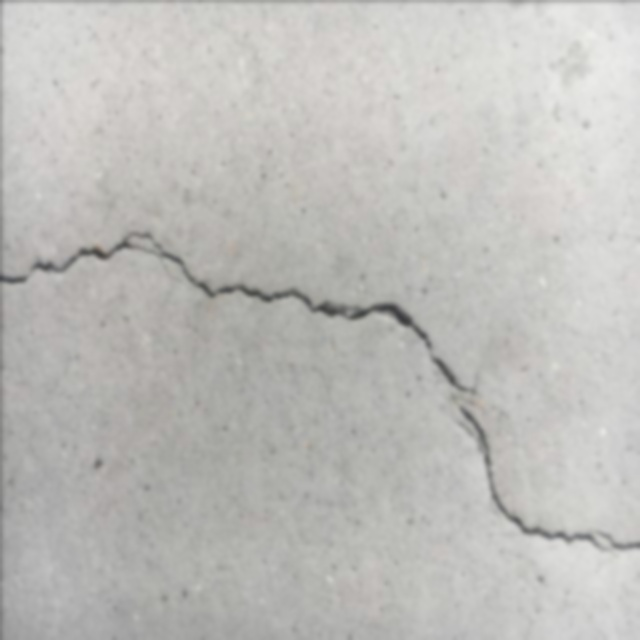SurfaceCrack: (0, 188, 638, 587)
